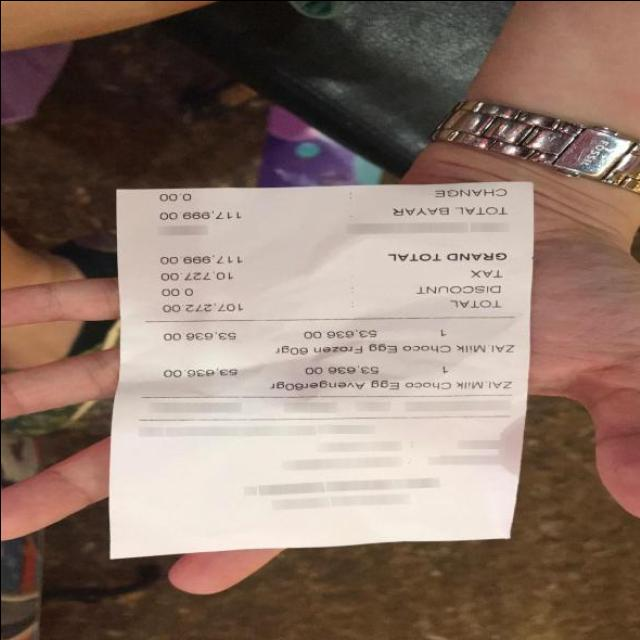kertas: (103, 181, 538, 558)
